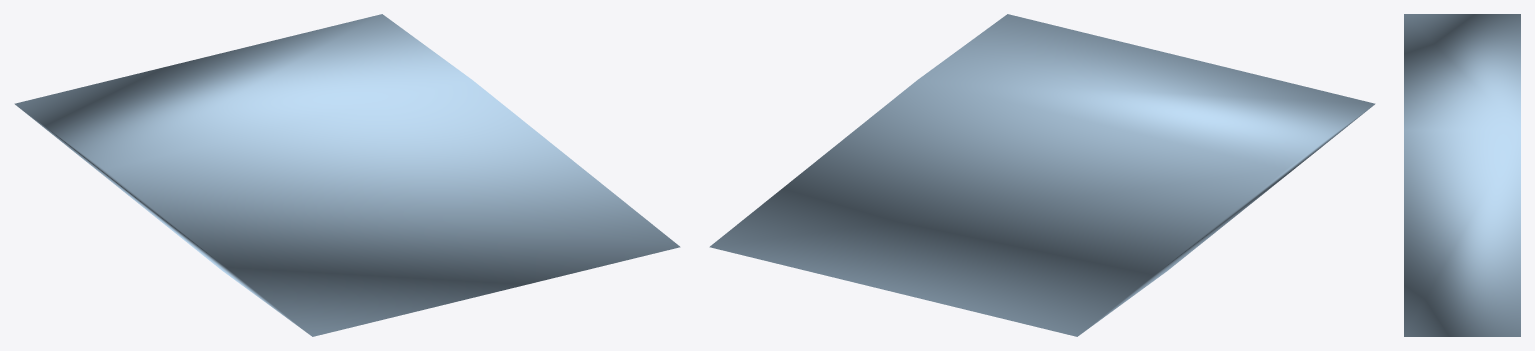
File: rhodonite.glb
3 views of the same model, side by side, from view 1: azimuth 30°, elevation 25°; view 2: azimuth 150°, elevation 25°; view 3: azimuth 270°, elevation 25° (orthographic). The views are drawn at different scales.
Parts seen in each view (by area): view 1: rhodonite; view 2: rhodonite; view 3: rhodonite.
Boxes of the visible parts, x1,y1,x2,y2 form: rhodonite: [14, 14, 680, 336]; rhodonite: [709, 14, 1375, 336]; rhodonite: [1404, 14, 1520, 336].
Size of the model in its own units: 4.43 by 1.6 by 1.2.
